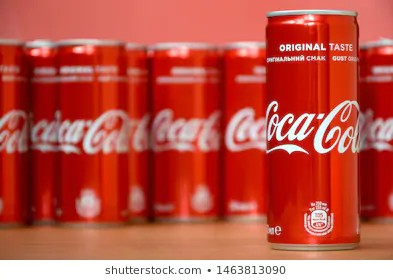coke-can: (267, 4, 365, 249), (53, 39, 127, 224), (149, 38, 222, 221)
